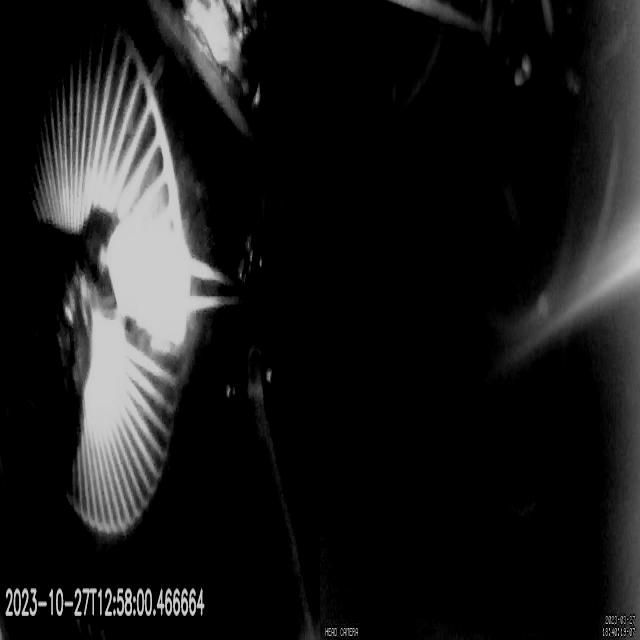head: (115, 216, 190, 344)
